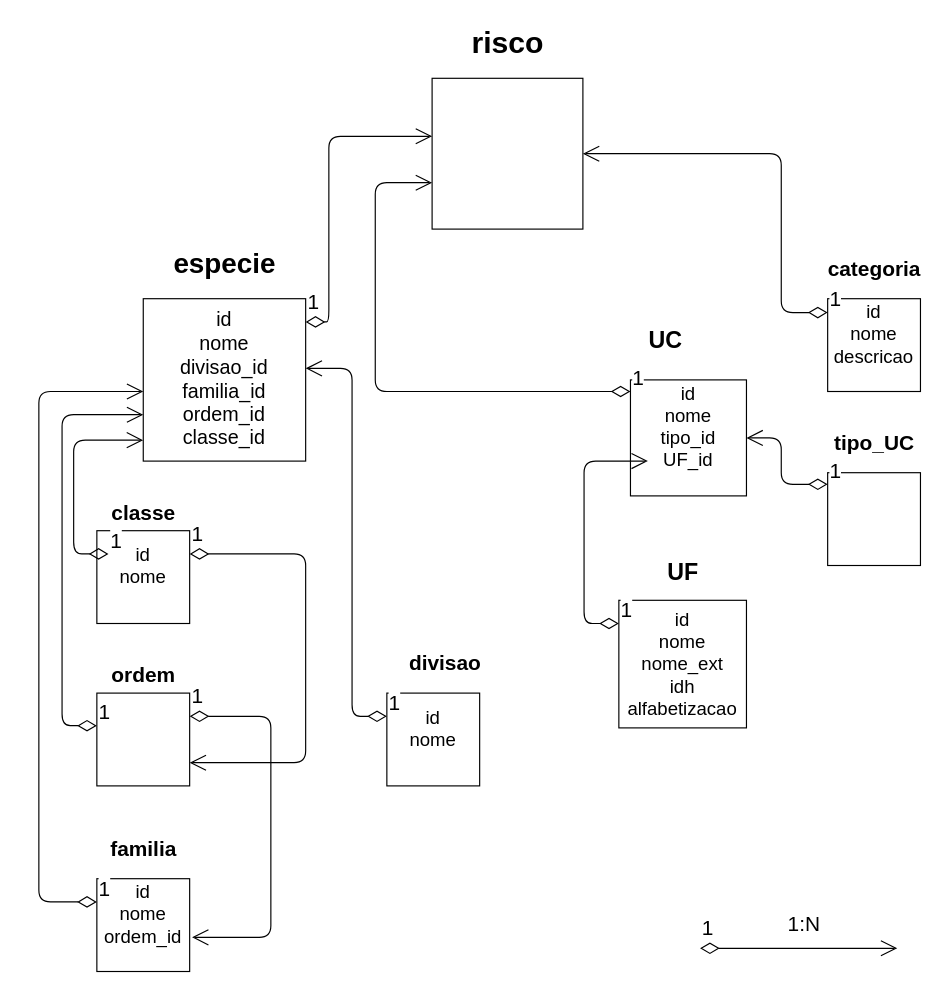
Image size: 941x992. Some labels were removed from this diagram. The centre of each missing label's shape, as x and y in pixels:
"especie_id categoria_id UC_id" goes at point 507,153.
"id nome classe_id" goes at point 143,739.
"id sigla nome" goes at point 873,519.
